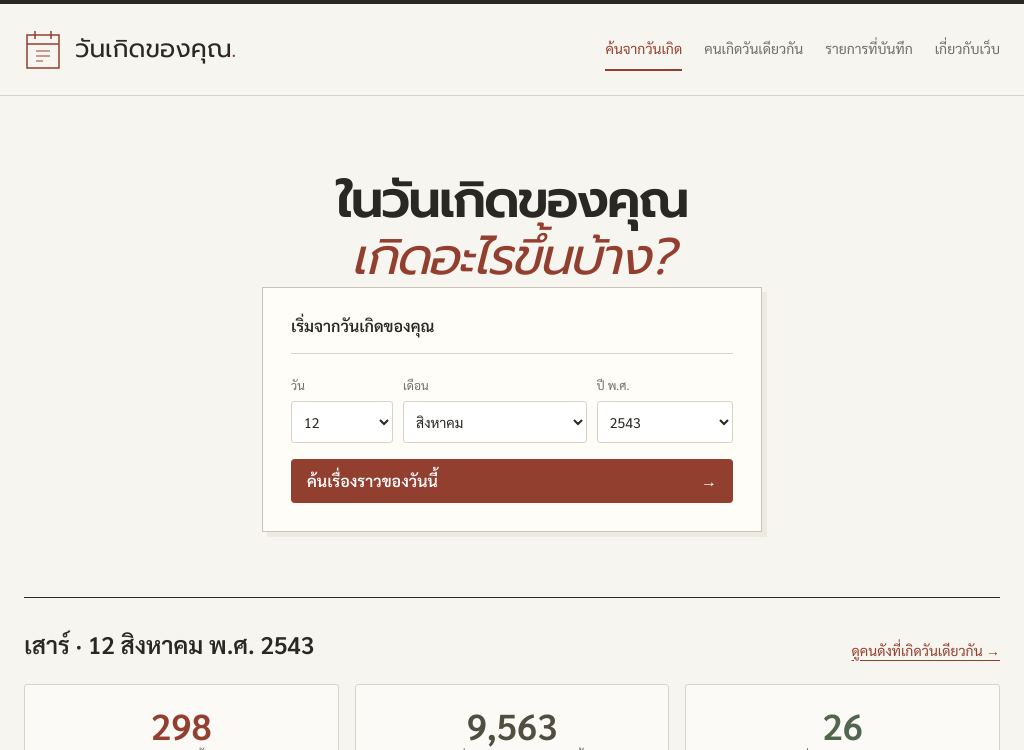
Test case: shared birthday and birthday twins › carries the birthday from Home to Twins using the same cached page
Click the link "คนเกิดวันเดียวกัน".
click(754, 48)  # box x1=704 y1=39 x2=803 y2=57
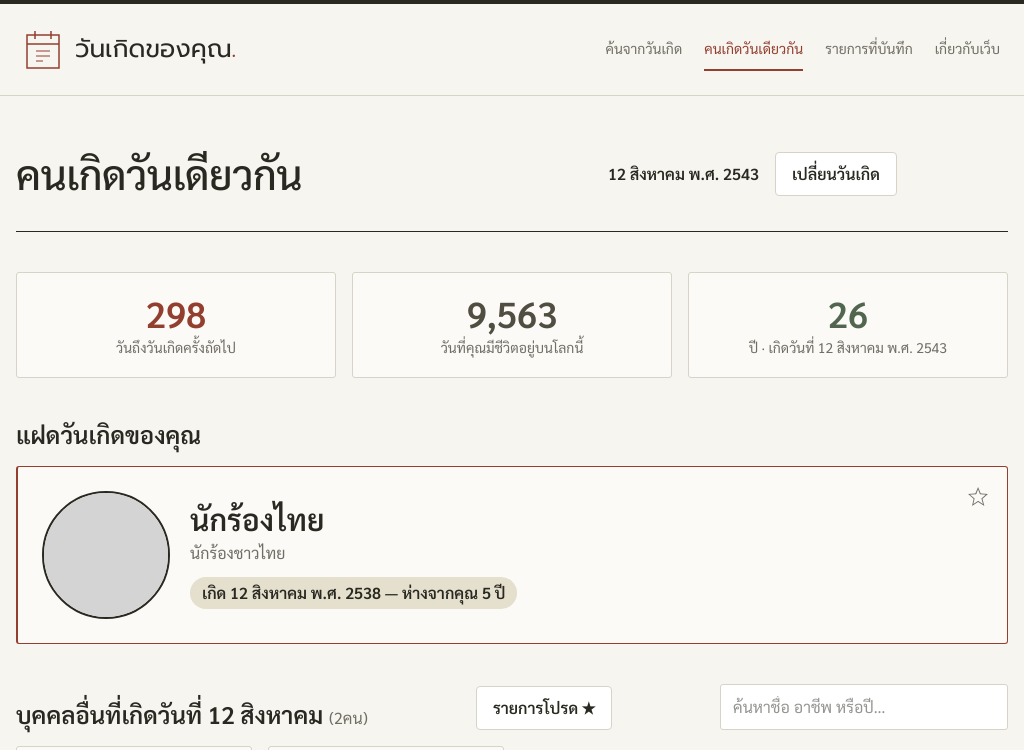
expect the text "นักร้องไทย" is shown: met, box x1=190 y1=499 x2=324 y2=538
expect the dropdown is gone: met
